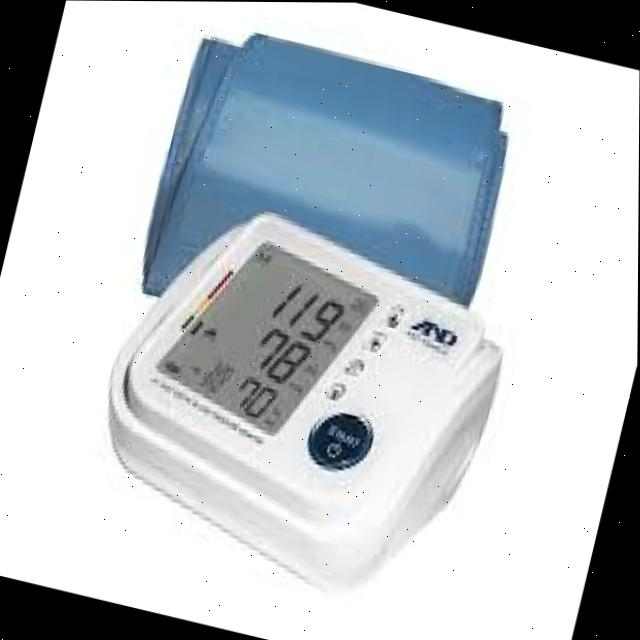dia: (240, 312, 318, 390)
pul: (218, 364, 283, 430)
ssd: (156, 215, 379, 450)
sys: (264, 264, 350, 346)
